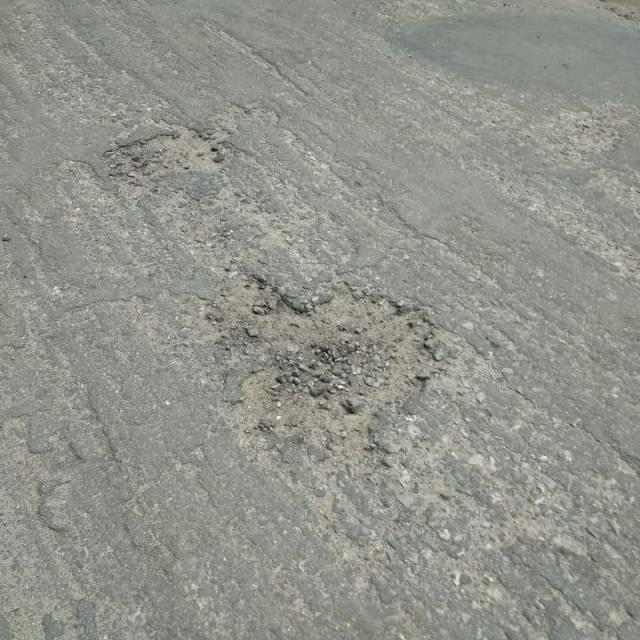Pothole: (212, 268, 436, 465), (97, 119, 228, 184)
